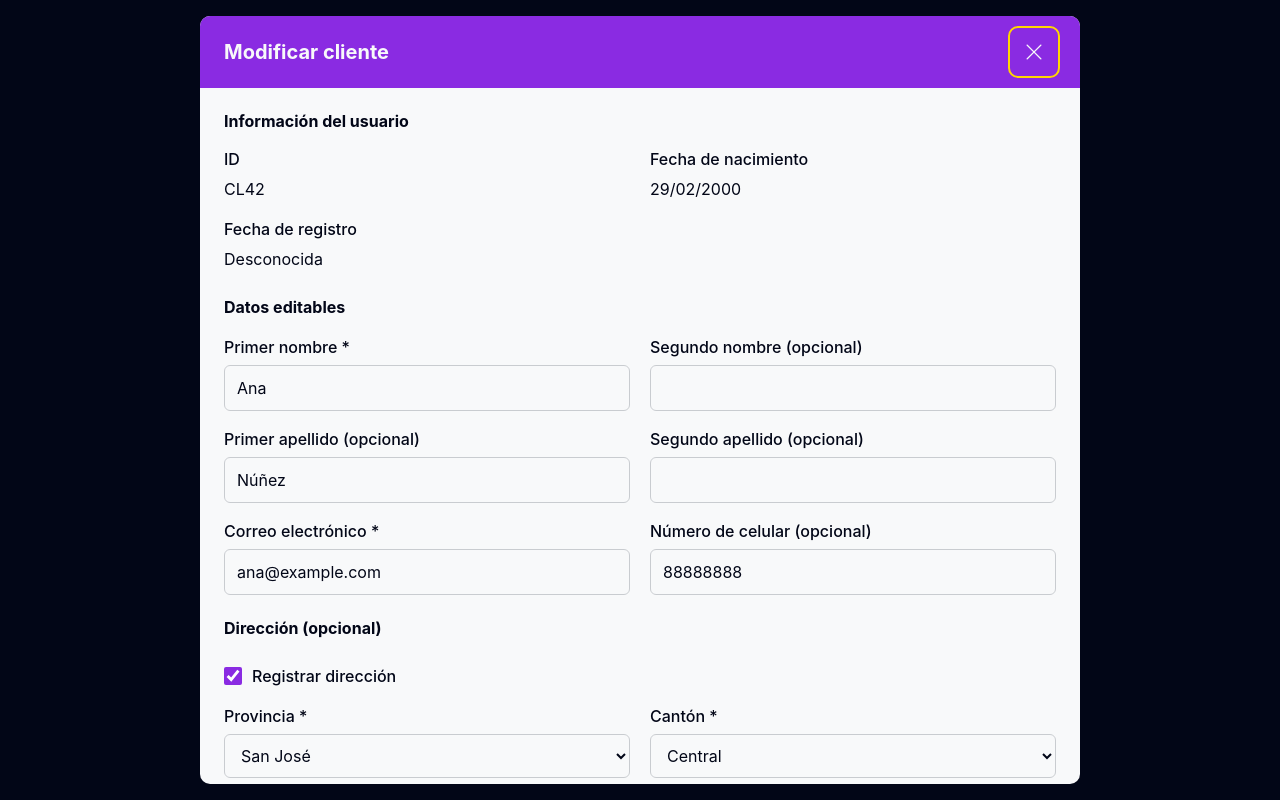
Test: EditUserDialog › blocks a concurrent deactivation conflict without marking the email as duplicated
Replace the text in the field named "email" with "new@example.com" at point(427, 572), box [224, 549, 630, 595]
(page scrolled)
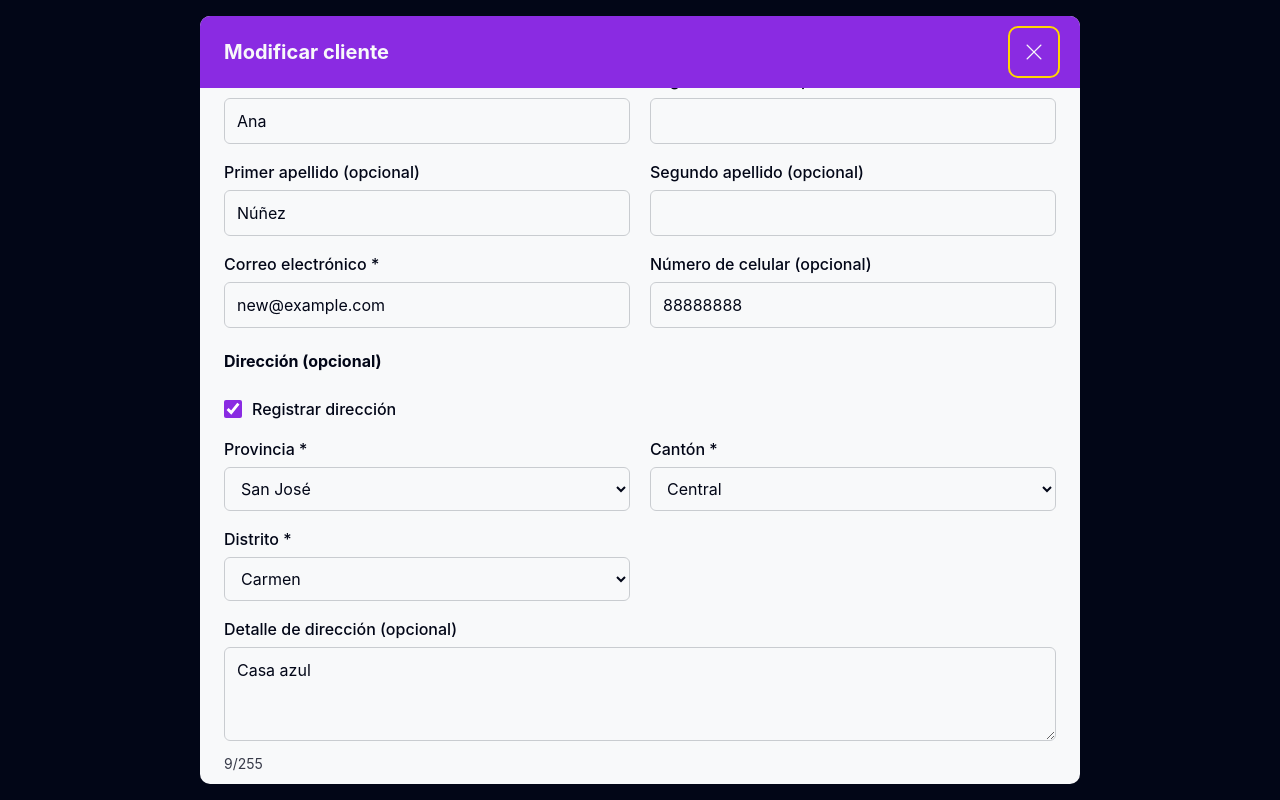
Submit the form
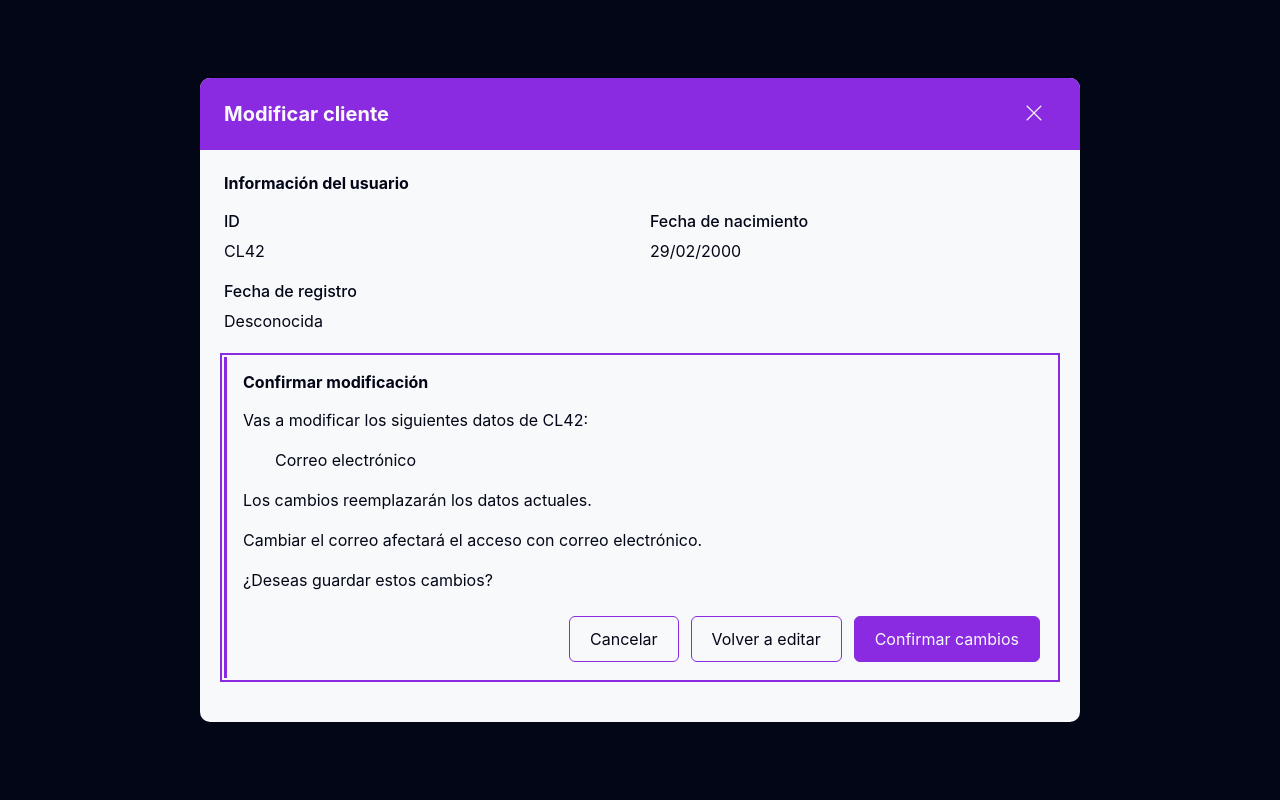
Click the button "Confirmar cambios".
click(947, 639)  # box [854, 616, 1040, 662]
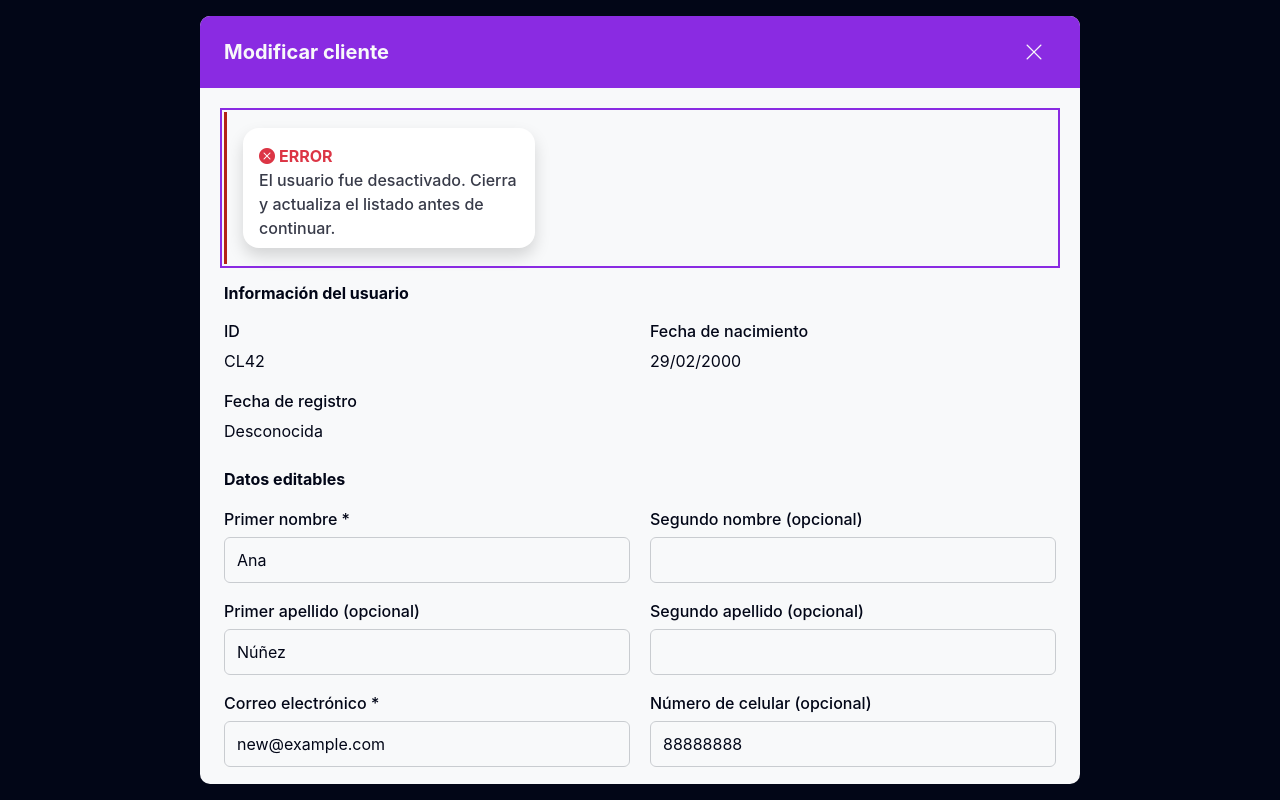
Check: the text "El usuario fue desactivado" is shown, box [259, 170, 517, 238]
